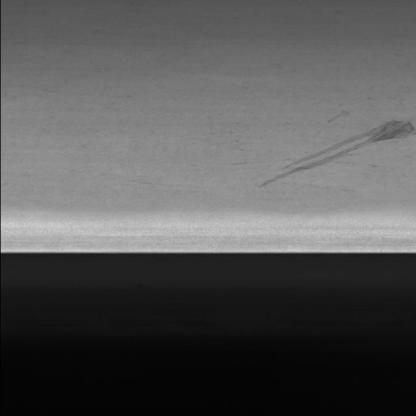water_spot: (244, 97, 415, 190)
